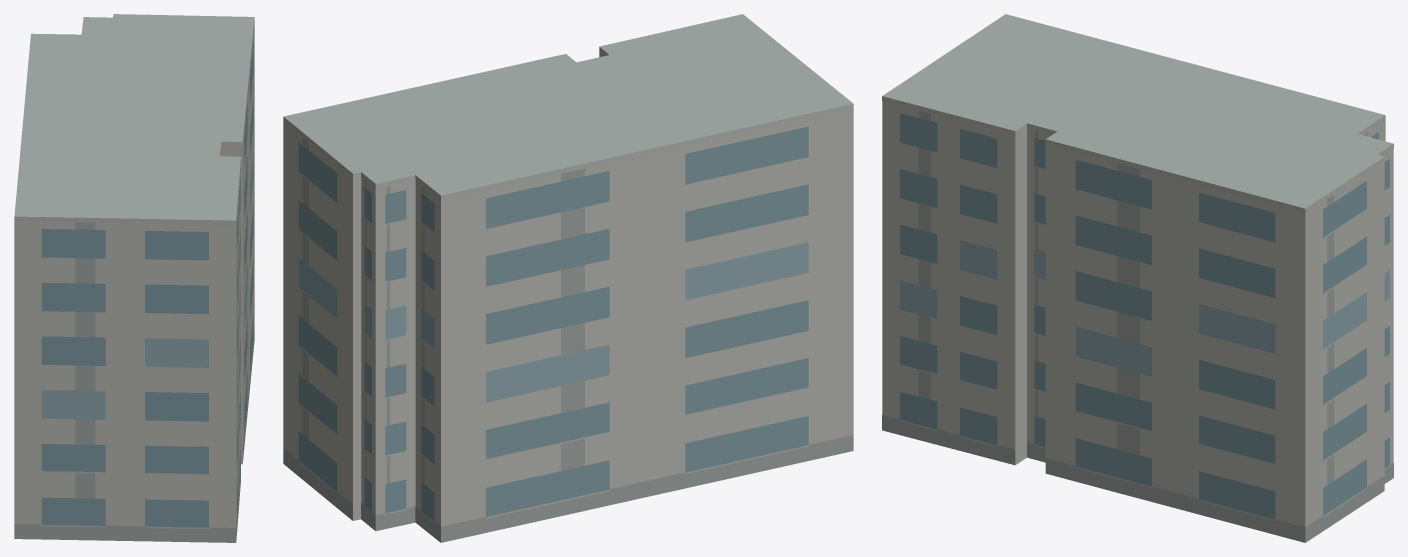
Rendered from survey-upis-32616995.glb.
3 renders of one model, left to right at view 1: azimuth 30°, elevation 25°; view 2: azimuth 150°, elevation 25°; view 3: azimuth 270°, elevation 25°, orthographic. The views are drawn at different scales.
Visible parts, largest first — view 1: survey-upis-32616995.tmp; view 2: survey-upis-32616995.tmp; view 3: survey-upis-32616995.tmp.
Boxes of the visible parts, x1,y1,x2,y2 form: survey-upis-32616995.tmp: [14, 14, 254, 542]; survey-upis-32616995.tmp: [283, 14, 853, 542]; survey-upis-32616995.tmp: [882, 14, 1393, 542].
Bounding box in the file's own units: 20.99 × 16.8 × 23.32.
